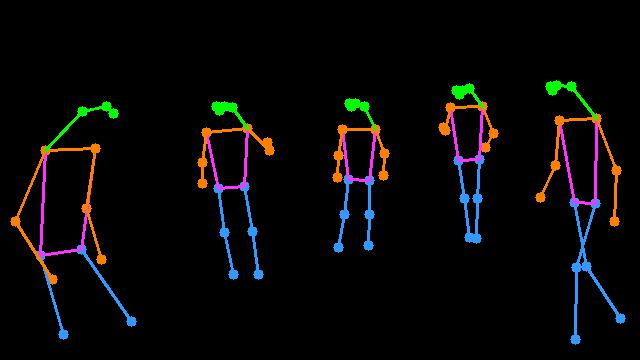normal: (1, 74, 146, 356), (528, 63, 635, 353), (186, 90, 279, 295), (431, 71, 504, 255), (323, 87, 390, 261)
